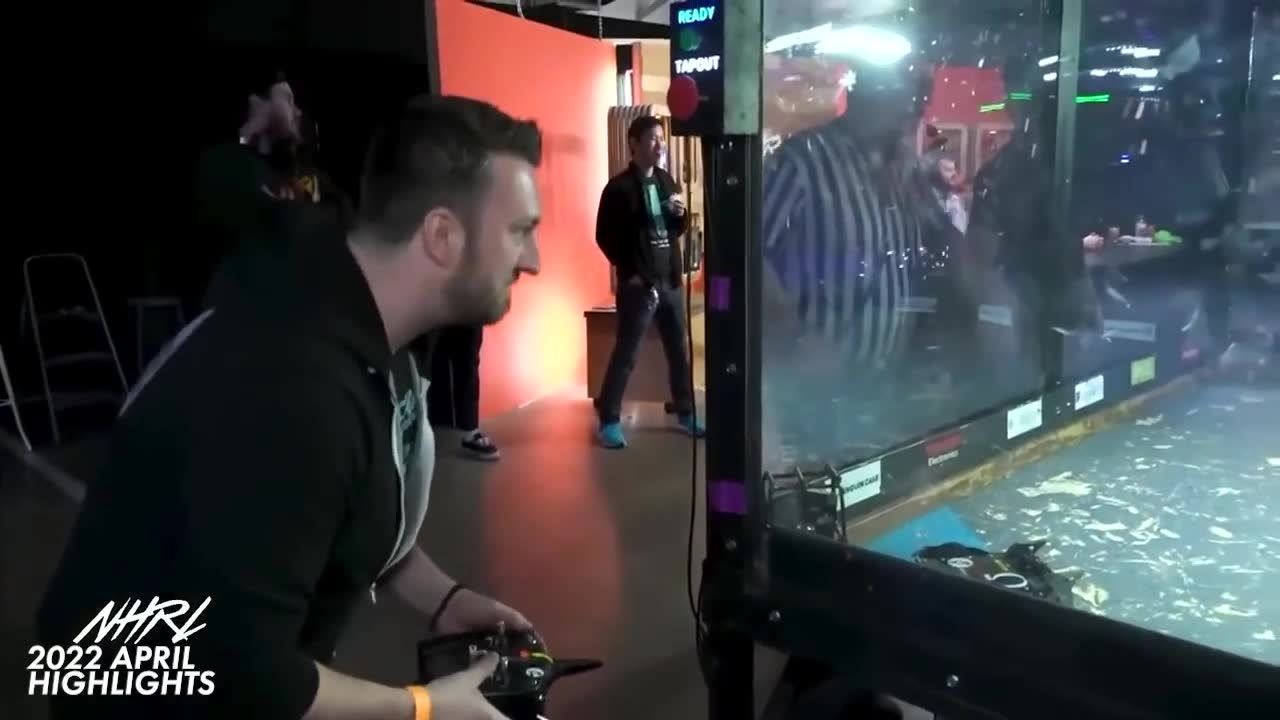combatbot: (911, 538, 1084, 609)
